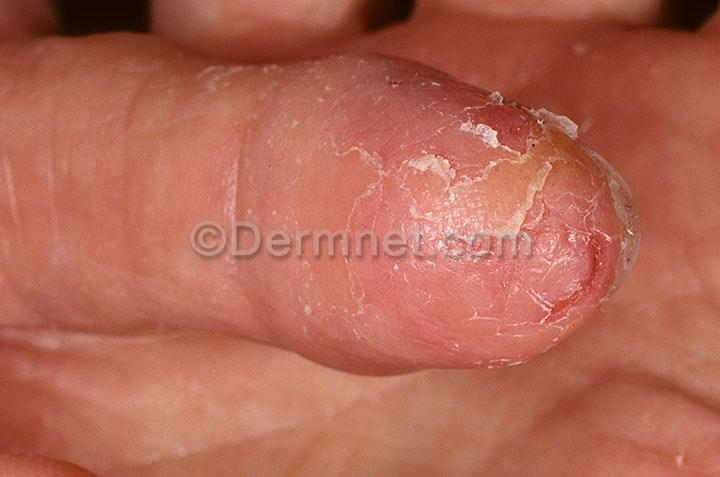Eczema: (441, 129, 621, 327), (329, 61, 436, 261), (296, 247, 437, 368)
